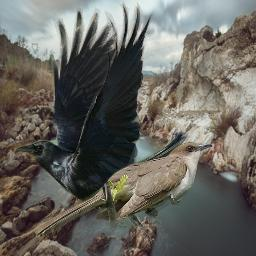Crow: (14, 0, 188, 250)
Cuckoo: (33, 141, 212, 237)
